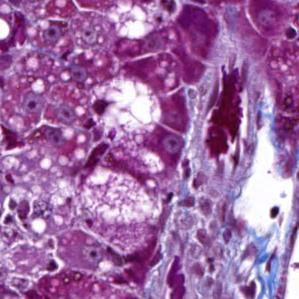ballooning: (85, 75, 163, 140)
